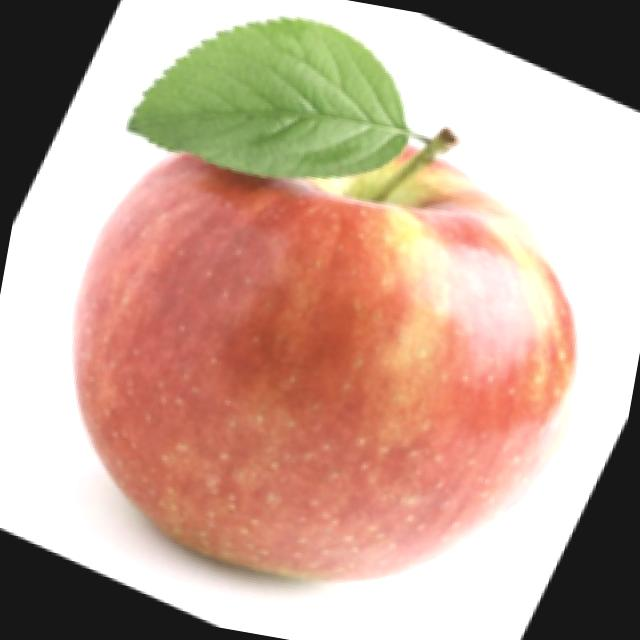Fresh_Apple: (21, 52, 634, 634)
